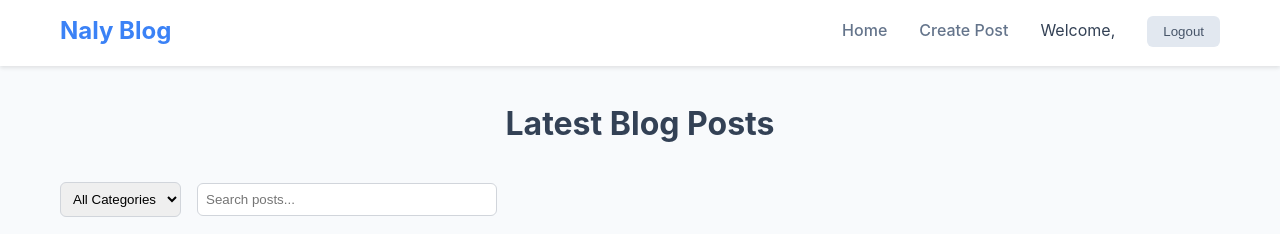
Scenario: Authentication › User Logout › should logout user successfully
expect the text "Welcome," is shown: met, box x1=1040 y1=18 x2=1115 y2=44
// Click logout
Click the button "Logout" at (1184, 32), box x1=1147 y1=16 x2=1220 y2=47
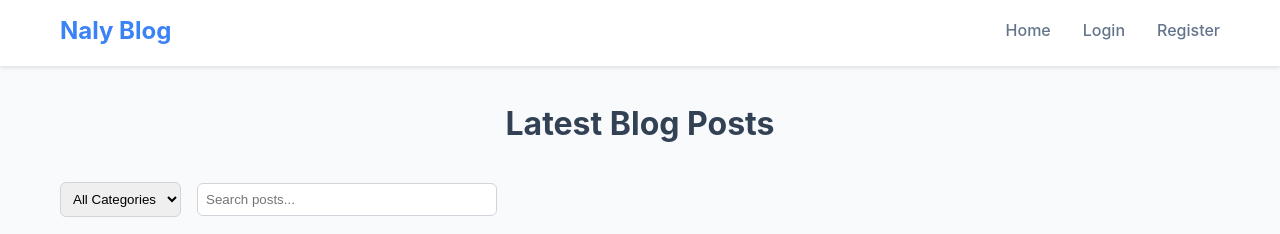
expect the link "Login" is shown: met, box x1=1083 y1=18 x2=1125 y2=44
expect the link "Register" is shown: met, box x1=1157 y1=18 x2=1220 y2=44
expect the text "Welcome," is gone: met
